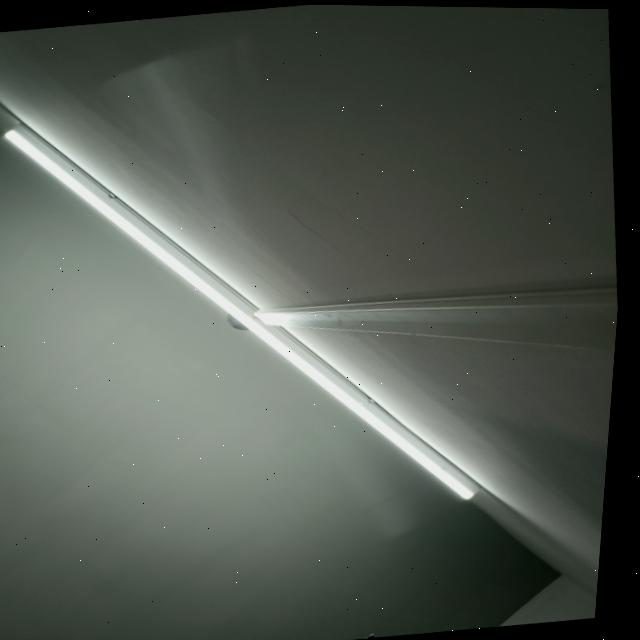light_on: (0, 57, 539, 555)
